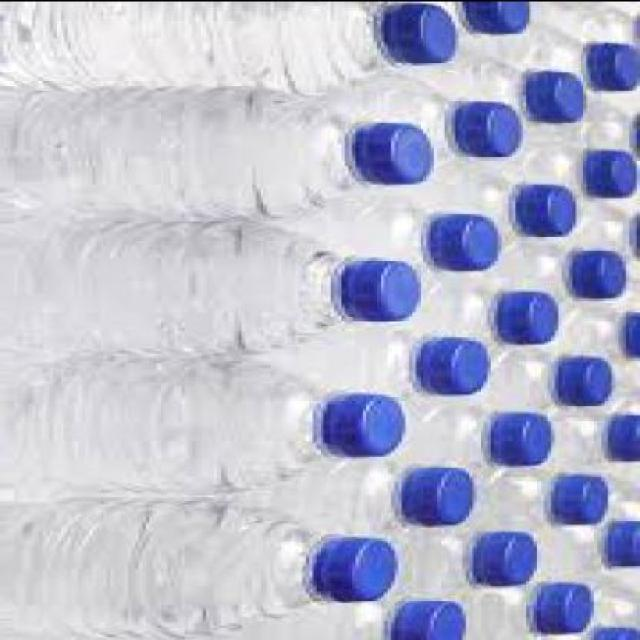PLASTIC: (4, 89, 438, 226), (3, 494, 403, 638), (8, 220, 423, 358), (3, 359, 409, 496), (4, 2, 465, 96), (273, 318, 495, 413), (263, 448, 480, 544), (310, 185, 498, 288), (352, 73, 526, 165), (406, 386, 554, 494), (228, 578, 470, 638), (462, 49, 587, 162), (420, 272, 566, 366), (399, 52, 586, 123), (462, 20, 638, 95), (392, 519, 540, 603), (434, 167, 580, 251), (505, 240, 629, 311), (516, 134, 638, 206), (494, 346, 614, 416), (480, 466, 612, 526), (537, 20, 638, 98), (469, 580, 598, 638), (537, 515, 638, 583), (316, 535, 402, 603), (554, 403, 638, 469), (373, 2, 459, 64), (327, 393, 405, 459), (438, 2, 533, 55), (355, 124, 437, 185), (532, 0, 638, 46), (532, 0, 638, 45), (342, 258, 416, 322), (420, 336, 494, 395), (406, 469, 480, 528), (566, 306, 640, 363), (576, 203, 638, 266), (434, 215, 504, 270), (515, 180, 580, 238), (459, 100, 523, 158), (491, 414, 558, 466), (587, 95, 639, 160), (498, 293, 565, 342), (537, 580, 594, 635), (530, 68, 587, 121), (547, 474, 608, 523), (480, 537, 537, 588), (397, 600, 471, 638), (558, 357, 616, 405), (572, 252, 630, 299), (590, 38, 638, 92), (587, 150, 639, 198), (465, 2, 530, 36), (590, 578, 638, 624), (608, 518, 638, 572), (608, 417, 638, 461), (589, 626, 640, 639), (626, 312, 639, 360), (630, 212, 638, 258), (630, 114, 638, 155)
